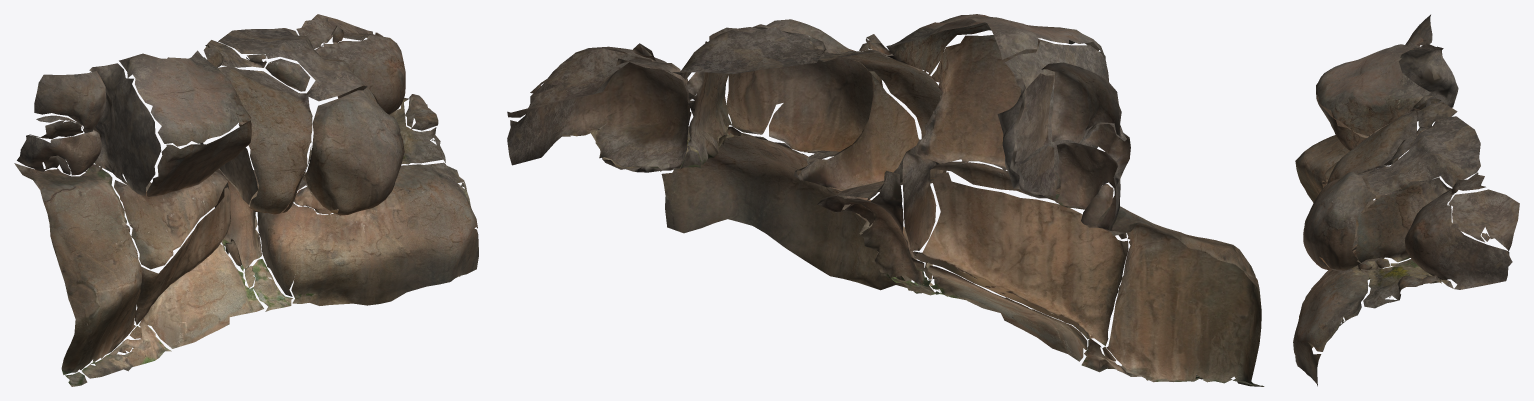
Rendered from rock_tor_b.glb.
The picture shows the model from 3 angles, left to right: view 1: azimuth 30°, elevation 25°; view 2: azimuth 150°, elevation 25°; view 3: azimuth 270°, elevation 25°; orthographic projection. The views are drawn at different scales.
Parts seen in each view (by area): view 1: rock_tor_b; view 2: rock_tor_b; view 3: rock_tor_b.
Part boxes in pixels (x1,y1,x2,y2): rock_tor_b: (14, 14, 478, 386); rock_tor_b: (507, 14, 1264, 386); rock_tor_b: (1293, 14, 1519, 386).
Bounding box in the file's own units: 8.26 × 4.95 × 4.33.
Materials: 1 (1 with a texture image).
